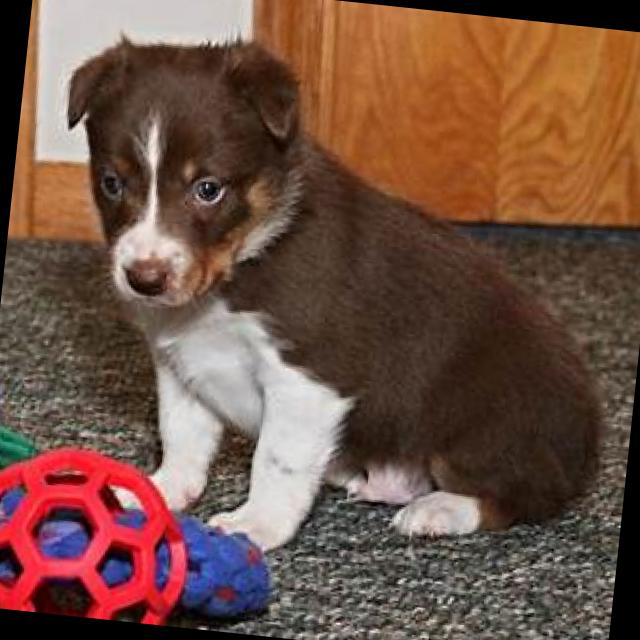dog: (19, 15, 640, 586)
